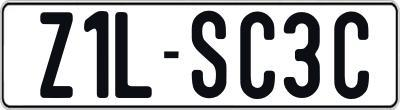1: (82, 11, 109, 104)
3: (284, 12, 320, 102)
C: (237, 9, 278, 102), (332, 12, 370, 105)
L: (113, 9, 152, 101)
S: (191, 10, 228, 102)
Z: (38, 10, 74, 96)
